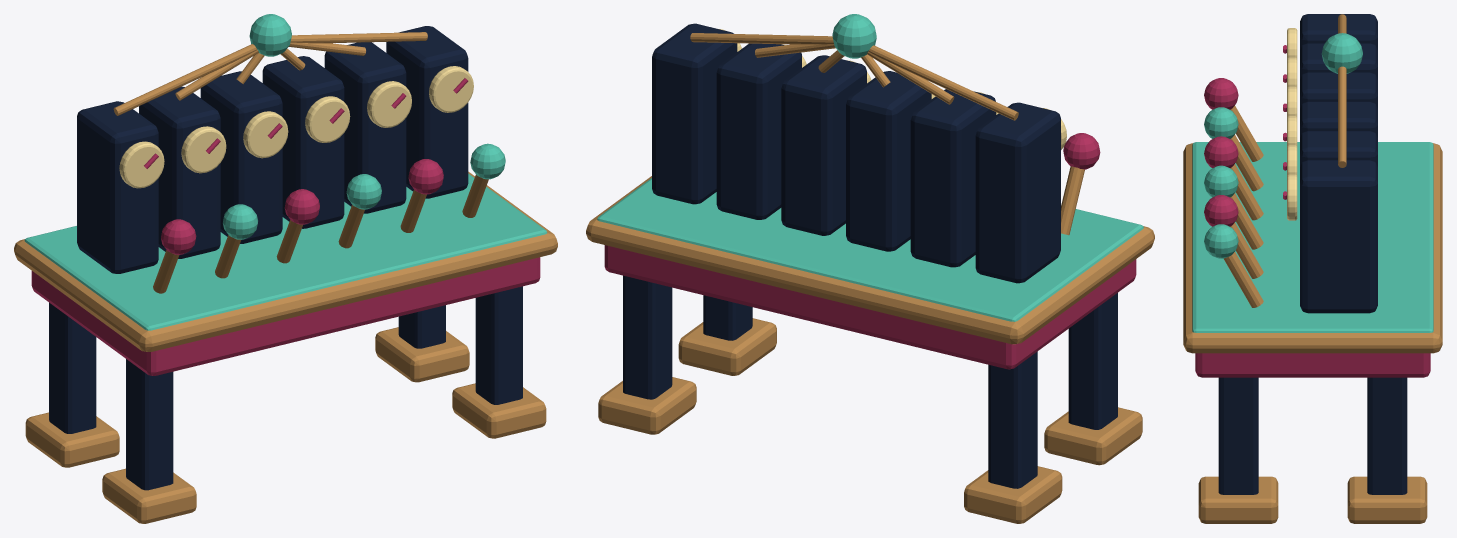
File: CooperativeLevers.fbx
The picture shows the model from 3 angles, left to right: view 1: azimuth 30°, elevation 25°; view 2: azimuth 150°, elevation 25°; view 3: azimuth 270°, elevation 25°; orthographic projection. The views are drawn at different scales.
Visible parts, largest first — view 1: CooperativeLevers.Mesh, CooperativeLevers.TimingFace0.Mesh, CooperativeLevers.TimingFace1.Mesh, CooperativeLevers.TimingFace2.Mesh, CooperativeLevers.TimingFace5.Mesh, CooperativeLevers.TimingFace4.Mesh, CooperativeLevers.TimingFace3.Mesh, CooperativeLevers.Lever3.Mesh, CooperativeLevers.Lever0.Mesh, CooperativeLevers.Lever4.Mesh, CooperativeLevers.Lever5.Mesh, CooperativeLevers.Lever1.Mesh (+1 smaller); view 2: CooperativeLevers.Mesh, CooperativeLevers.Lever0.Mesh; view 3: CooperativeLevers.Mesh, CooperativeLevers.Lever5.Mesh, CooperativeLevers.Lever2.Mesh, CooperativeLevers.Lever4.Mesh, CooperativeLevers.Lever0.Mesh, CooperativeLevers.Lever1.Mesh, CooperativeLevers.Lever3.Mesh, CooperativeLevers.TimingFace5.Mesh, CooperativeLevers.TimingFace2.Mesh, CooperativeLevers.TimingFace3.Mesh, CooperativeLevers.TimingFace1.Mesh, CooperativeLevers.TimingFace0.Mesh (+1 smaller).
Part boxes in pixels (x1,y1,x2,y2): CooperativeLevers.Mesh: (14, 14, 557, 523); CooperativeLevers.TimingFace0.Mesh: (119, 141, 164, 188); CooperativeLevers.TimingFace1.Mesh: (181, 126, 226, 173); CooperativeLevers.TimingFace2.Mesh: (243, 111, 288, 158); CooperativeLevers.TimingFace5.Mesh: (429, 66, 473, 112); CooperativeLevers.TimingFace4.Mesh: (367, 81, 411, 127); CooperativeLevers.TimingFace3.Mesh: (305, 96, 350, 142); CooperativeLevers.Lever3.Mesh: (338, 174, 381, 248); CooperativeLevers.Lever0.Mesh: (153, 219, 196, 293); CooperativeLevers.Lever4.Mesh: (400, 159, 443, 232); CooperativeLevers.Lever5.Mesh: (462, 143, 505, 217); CooperativeLevers.Lever1.Mesh: (215, 204, 257, 278); CooperativeLevers.Mesh: (586, 14, 1154, 523); CooperativeLevers.Lever0.Mesh: (1061, 133, 1100, 235); CooperativeLevers.Mesh: (1183, 14, 1442, 523); CooperativeLevers.Lever5.Mesh: (1204, 224, 1263, 307); CooperativeLevers.Lever2.Mesh: (1204, 136, 1263, 220); CooperativeLevers.Lever4.Mesh: (1204, 195, 1263, 278); CooperativeLevers.Lever0.Mesh: (1204, 78, 1263, 161); CooperativeLevers.Lever1.Mesh: (1204, 107, 1263, 191); CooperativeLevers.Lever3.Mesh: (1204, 165, 1263, 249); CooperativeLevers.TimingFace5.Mesh: (1283, 174, 1297, 220); CooperativeLevers.TimingFace2.Mesh: (1283, 86, 1297, 117); CooperativeLevers.TimingFace3.Mesh: (1283, 115, 1297, 146); CooperativeLevers.TimingFace1.Mesh: (1283, 57, 1297, 88); CooperativeLevers.TimingFace0.Mesh: (1283, 28, 1297, 58).
Size of the model in its own units: 270 by 252 by 150.
